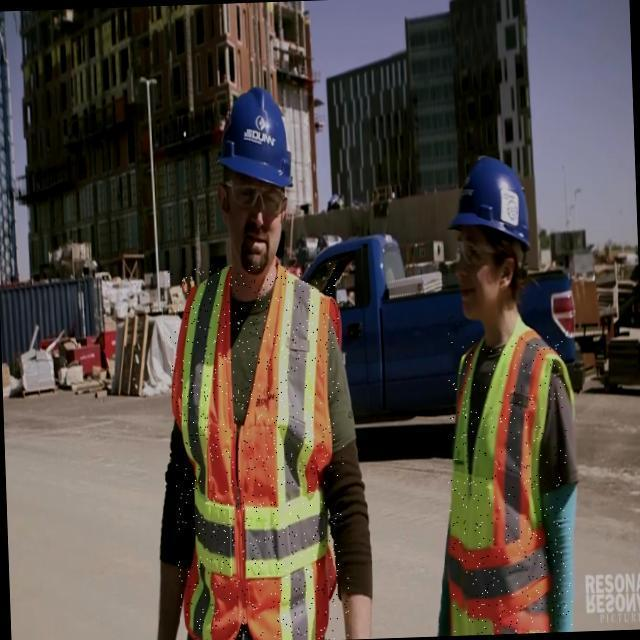helmet: (209, 75, 303, 197), (441, 145, 537, 253)
vest: (167, 262, 350, 640), (443, 333, 573, 636)
